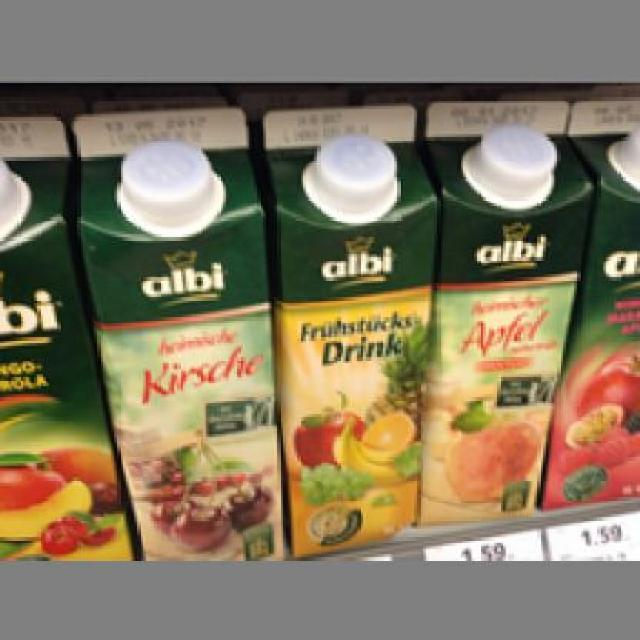Juice: (68, 102, 286, 555), (260, 97, 443, 552), (420, 97, 589, 523), (0, 113, 135, 555)
